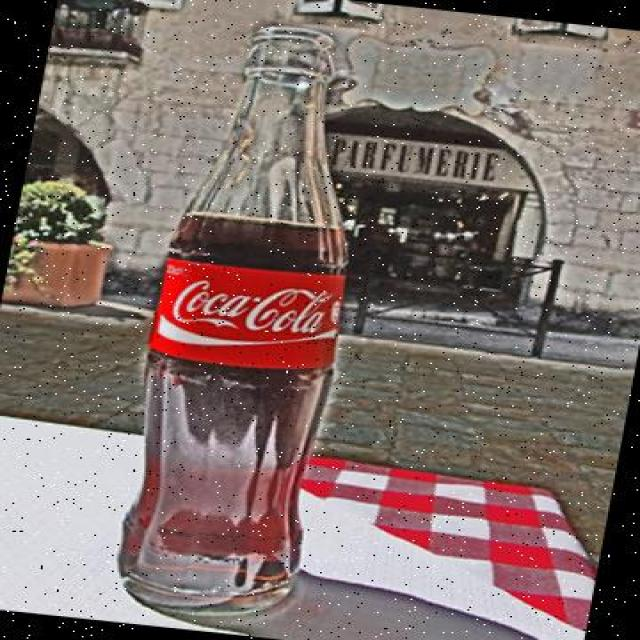coca-cola: (100, 13, 412, 630)
